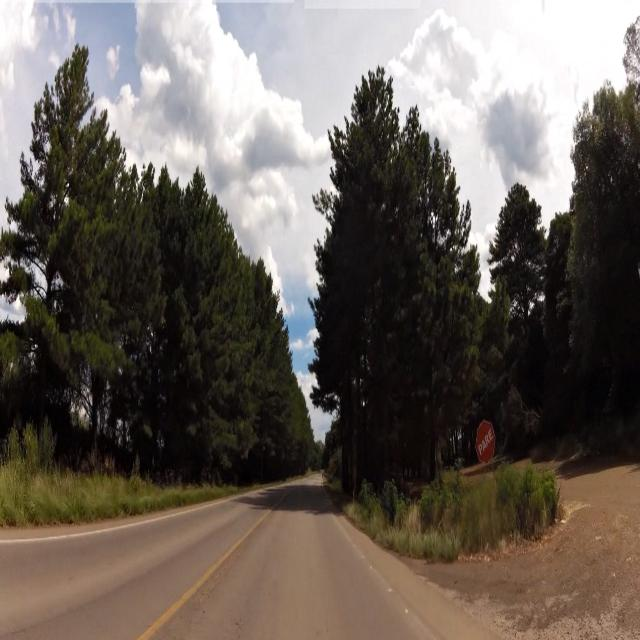R-1: (474, 418, 499, 465)
